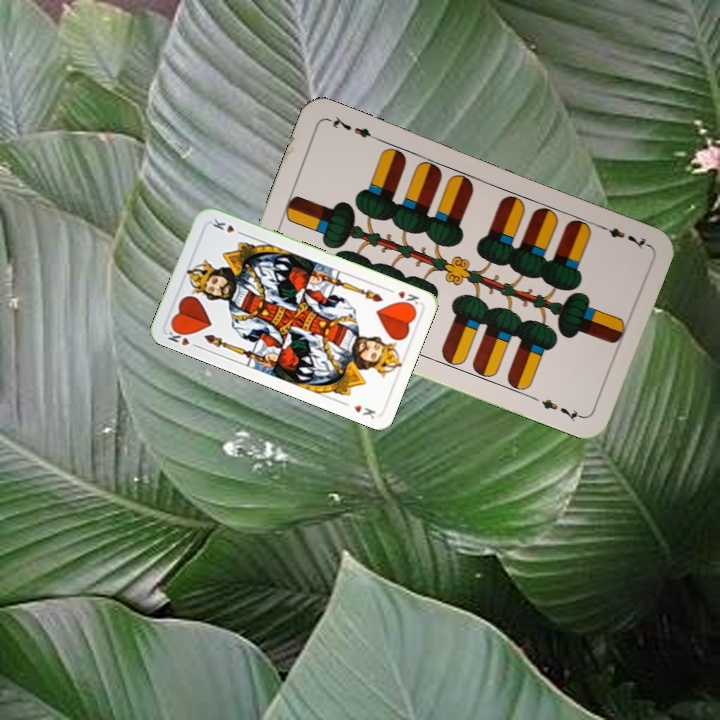E7: (594, 220, 650, 252)
HK: (383, 284, 422, 310), (164, 323, 193, 348)
